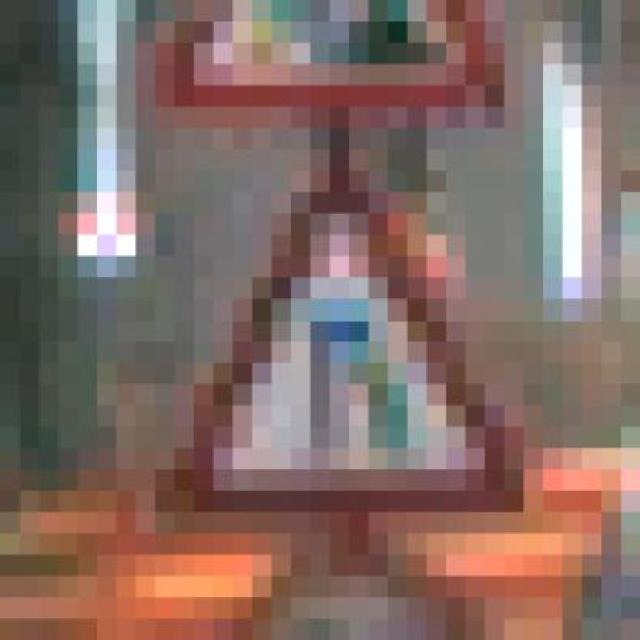-Road narrows on right: (155, 171, 543, 534)
